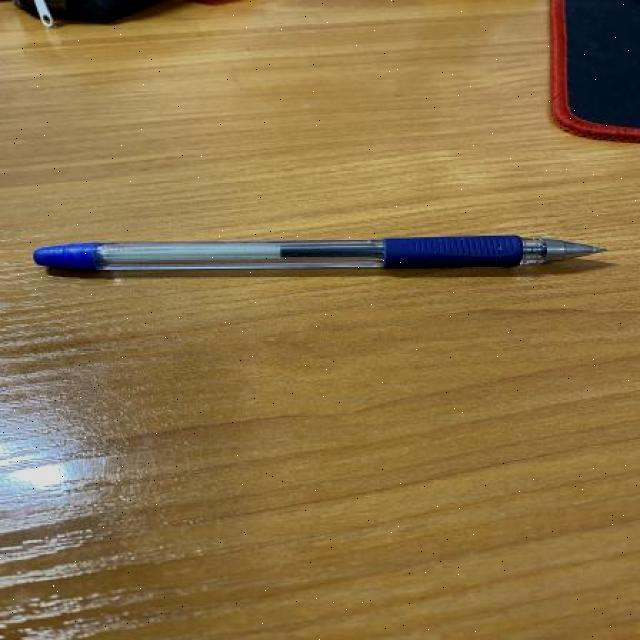pen: (31, 234, 606, 273)
